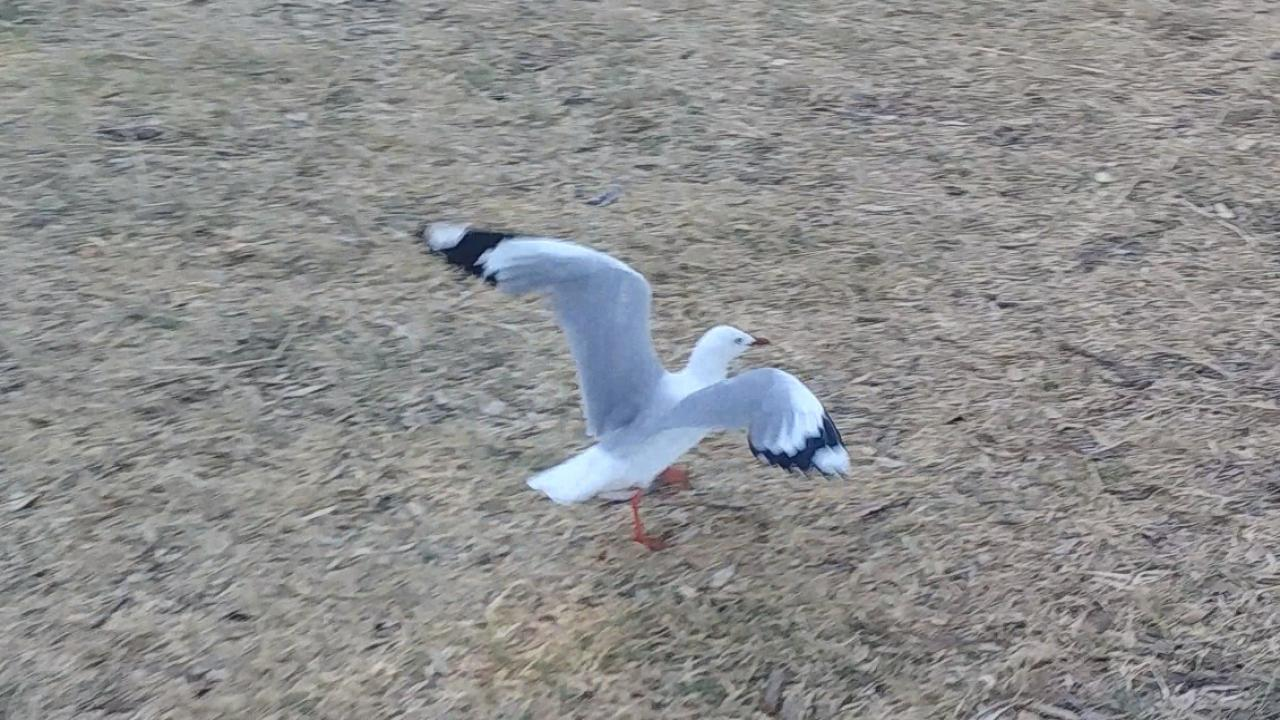Bird: (403, 210, 859, 559)
